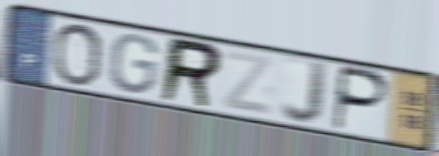G: (107, 33, 161, 96)
J: (279, 58, 331, 128)
O: (50, 23, 105, 88)
P: (330, 64, 392, 134)
R: (156, 35, 225, 112)
Z: (221, 48, 276, 119)
